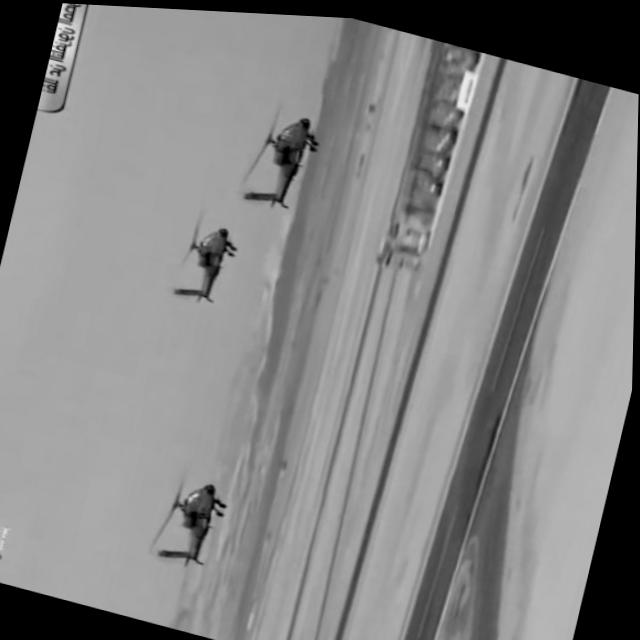helikopter: (136, 461, 252, 603), (143, 198, 255, 325), (242, 96, 343, 234)
